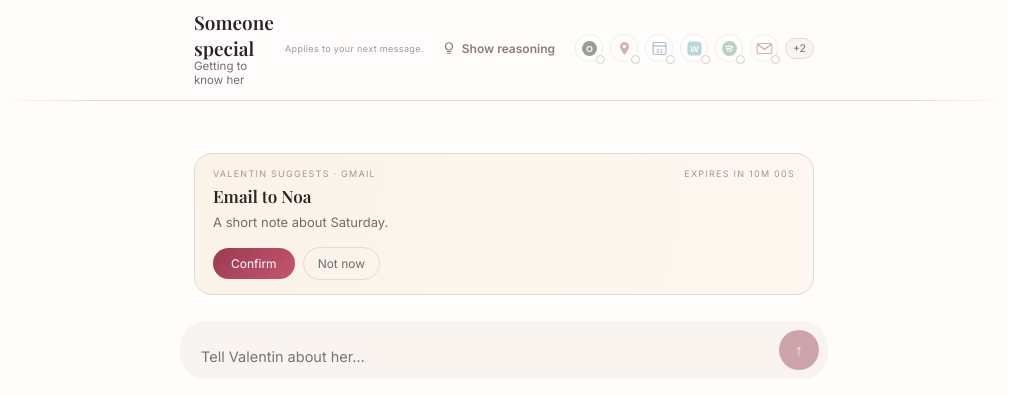
ChatPanel › keeps a dismissal local — nothing goes to the server
Click the button "Not now".
click(341, 263)  # box [303,246,380,280]
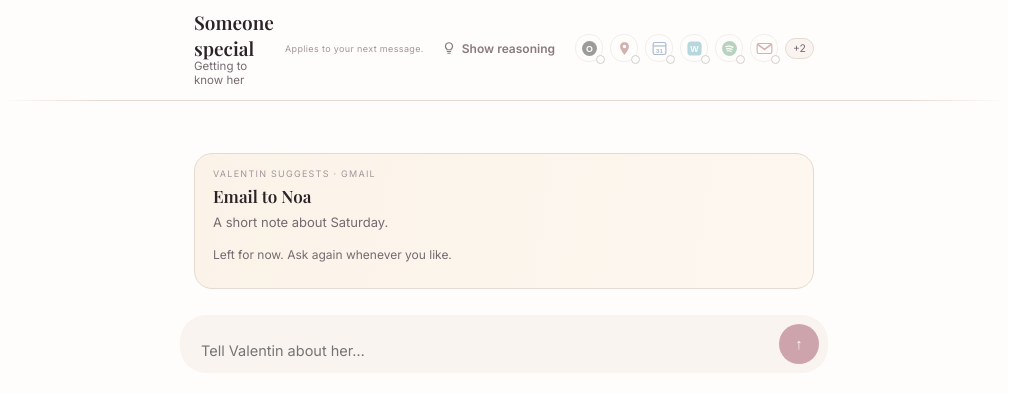
Now the text with test id "proposal-resolved" shows "Ask again", box [213,246,452,262]
